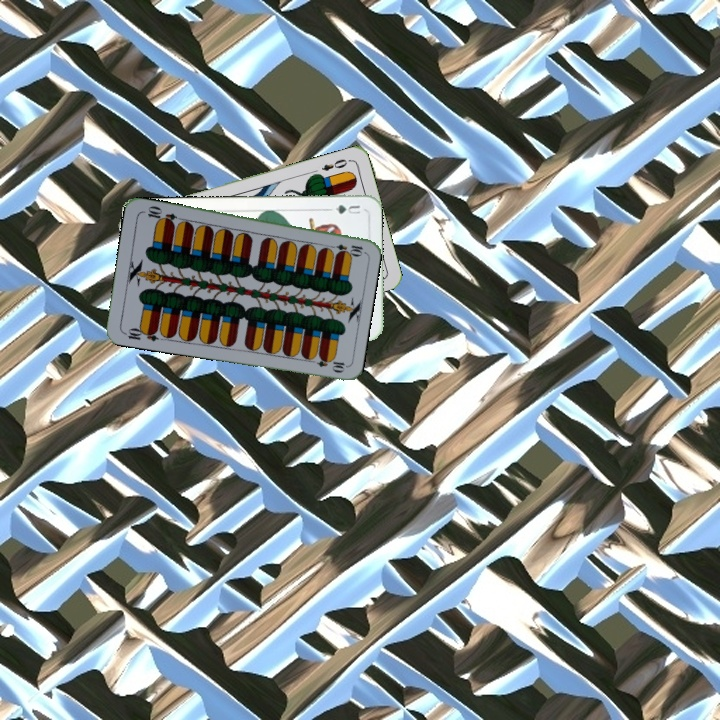E10: (120, 323, 160, 344), (324, 240, 365, 257)
EO: (318, 155, 353, 174)
GU: (325, 201, 363, 217)
